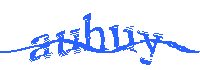a: (28, 33, 52, 61)
h: (81, 11, 106, 54)
u: (109, 22, 138, 54), (55, 27, 80, 57)
y: (137, 28, 162, 68)
